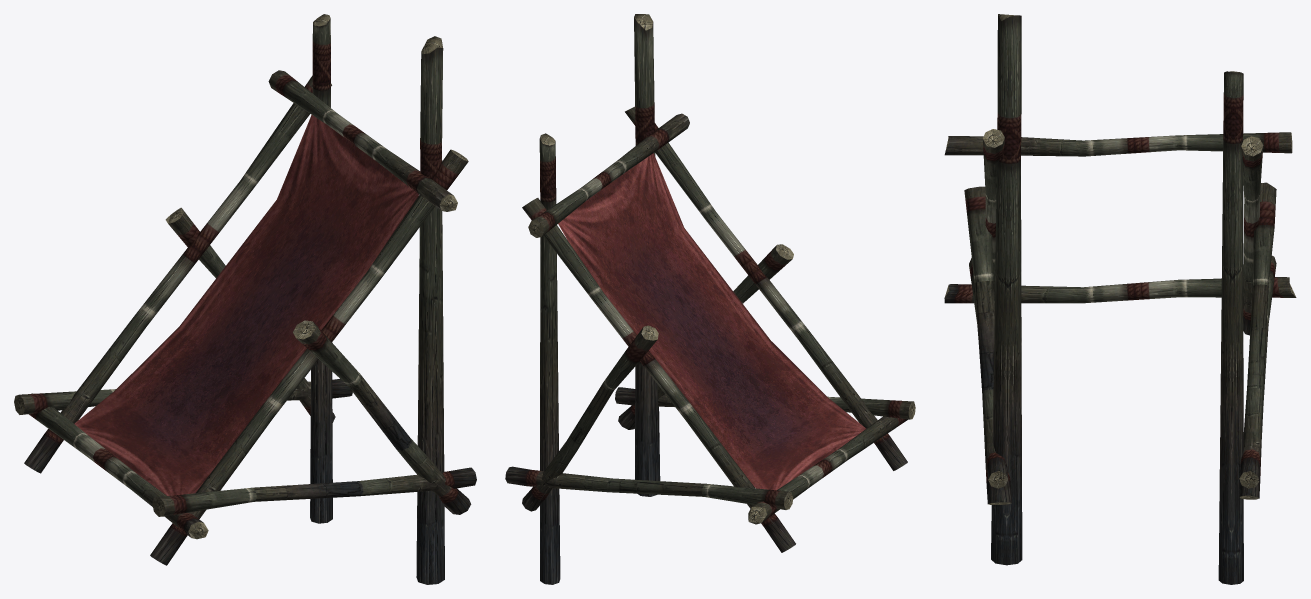
The model's file is camp_redthief_deco_00.fbx.
The picture shows the model from 3 angles, left to right: view 1: azimuth 30°, elevation 25°; view 2: azimuth 150°, elevation 25°; view 3: azimuth 270°, elevation 25°; orthographic projection. The views are drawn at different scales.
Visible parts, largest first — view 1: thing_goblin_tent_04; view 2: thing_goblin_tent_04; view 3: thing_goblin_tent_04.
Boxes of the visible parts, x1,y1,x2,y2 form: thing_goblin_tent_04: (14, 14, 476, 584); thing_goblin_tent_04: (505, 14, 915, 584); thing_goblin_tent_04: (944, 14, 1296, 584).
Bounding box in the file's own units: 4.57 × 7.51 × 4.2.
